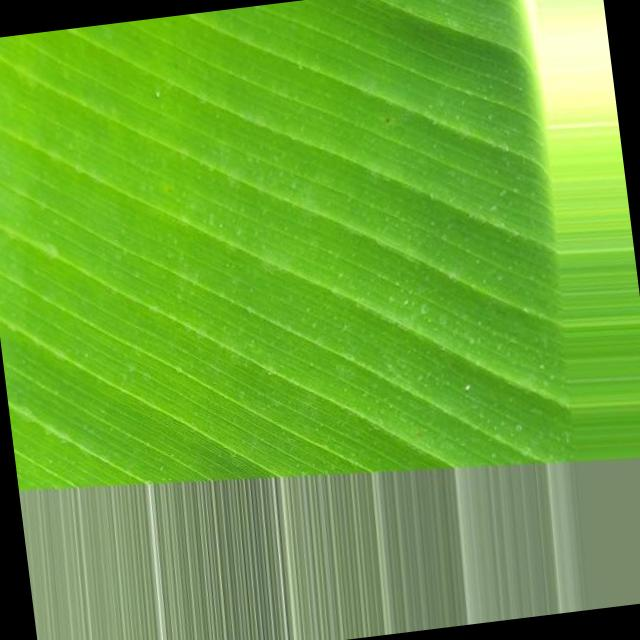Banana_Healthy: (62, 26, 548, 463)
